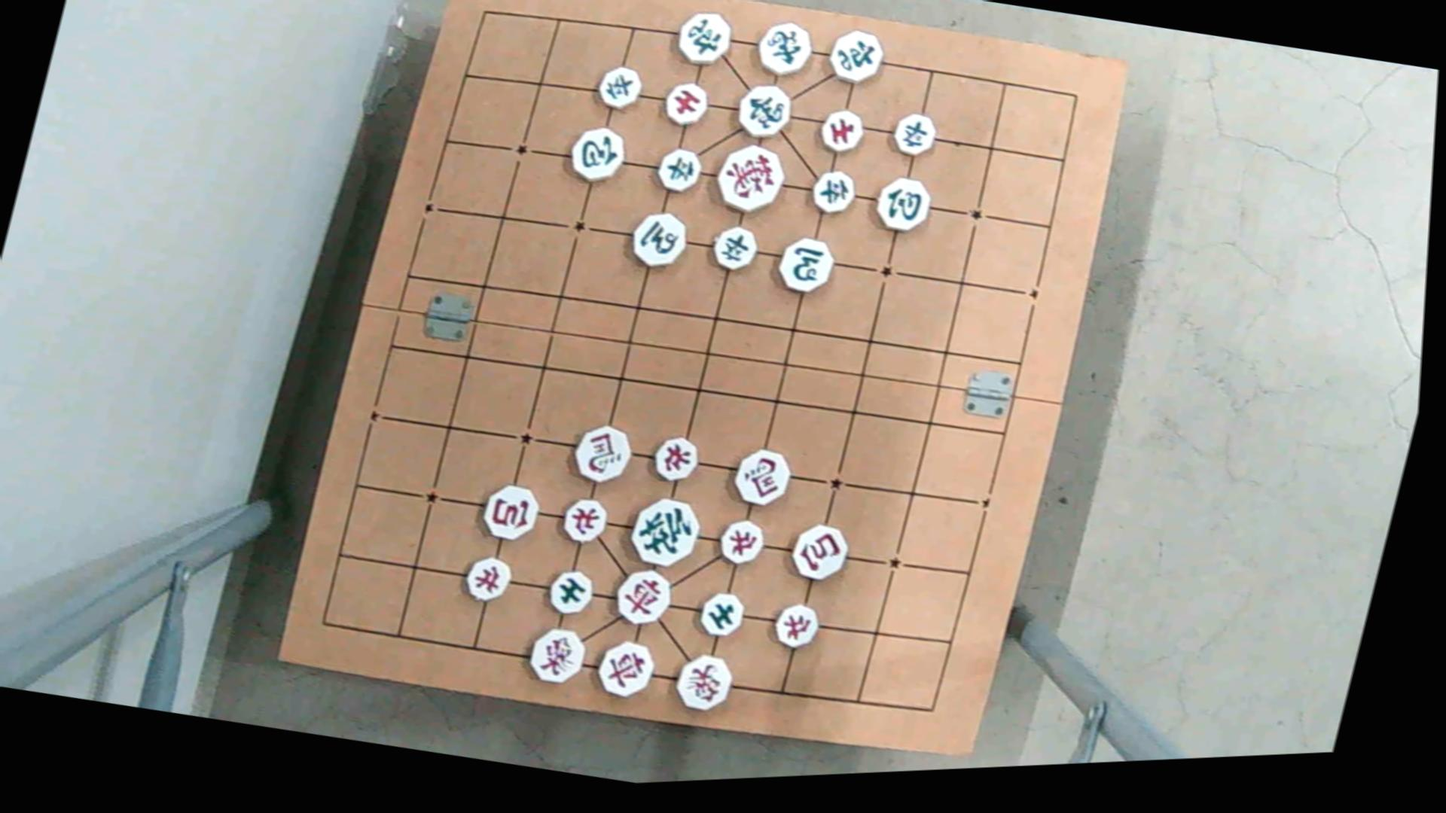cha_green: (669, 9, 739, 69), (819, 28, 889, 87)
cha_red: (606, 565, 678, 628), (587, 636, 660, 697)
jol_green: (802, 165, 862, 215), (706, 221, 763, 273), (589, 63, 646, 111), (886, 111, 941, 158), (651, 145, 703, 193)
jol_red: (559, 492, 614, 543), (713, 514, 767, 565), (767, 601, 823, 650), (650, 431, 701, 484), (459, 554, 514, 603)
ma_green: (622, 208, 693, 269), (770, 234, 839, 293)
ma_red: (565, 420, 637, 483), (725, 446, 799, 507)
po_green: (865, 175, 935, 236), (565, 123, 630, 183)
po_red: (788, 519, 851, 578), (479, 482, 540, 540)
sa_green: (542, 565, 597, 618), (694, 589, 746, 638)
sa_red: (813, 105, 867, 156), (659, 80, 712, 127)
sang_green: (748, 20, 820, 81), (726, 81, 797, 142)
sang_red: (666, 651, 739, 715), (520, 626, 593, 688)
wang_green: (620, 495, 706, 569)
wang_red: (706, 139, 792, 215)
